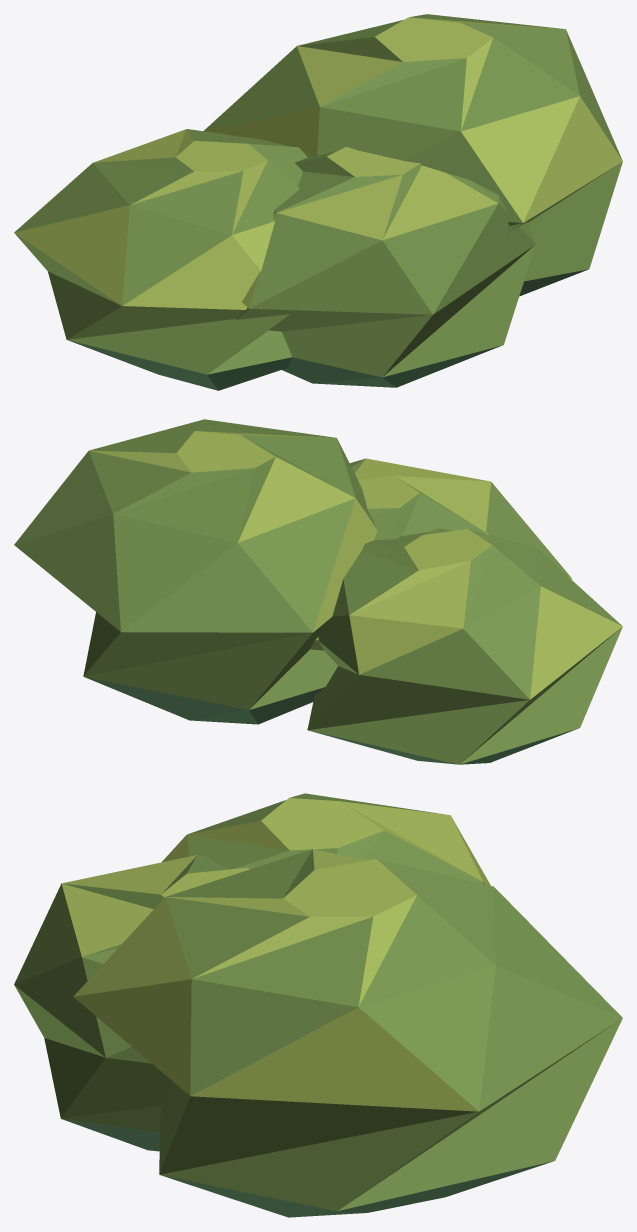
The model's file is SHRUB_01.glb.
3 renders of one model, top to bottom at view 1: azimuth 30°, elevation 25°; view 2: azimuth 150°, elevation 25°; view 3: azimuth 270°, elevation 25°, orthographic. The views are drawn at different scales.
Parts seen in each view (by area): view 1: CIVRUM_GAME_SHRUB_01; view 2: CIVRUM_GAME_SHRUB_01; view 3: CIVRUM_GAME_SHRUB_01.
Boxes of the visible parts, x1=… form: CIVRUM_GAME_SHRUB_01: x1=14, y1=14, x2=622, y2=390; CIVRUM_GAME_SHRUB_01: x1=14, y1=419, x2=622, y2=764; CIVRUM_GAME_SHRUB_01: x1=14, y1=793, x2=622, y2=1217.
Bounding box in the file's own units: 1.91 × 0.874 × 1.53.
